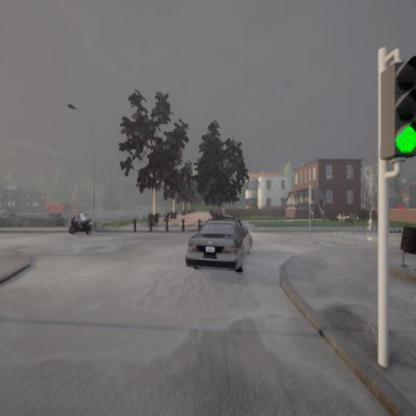motobike: (69, 212, 92, 235)
traffic_light_green: (392, 53, 416, 160)
vehicle: (185, 218, 252, 274)
